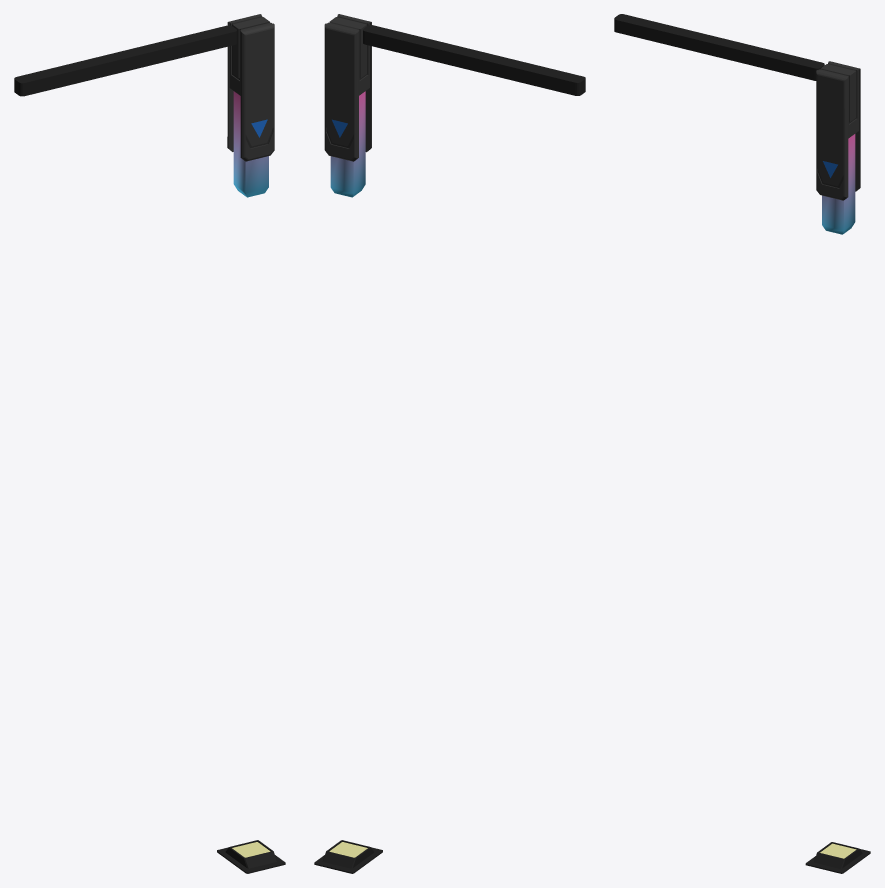
Rendered from W_O_Streetlamp_004_b_L0.fbx.
3 views of the same model, side by side, from view 1: azimuth 30°, elevation 25°; view 2: azimuth 150°, elevation 25°; view 3: azimuth 330°, elevation 25° (orthographic). The views are drawn at different scales.
Visible parts, largest first — view 1: W_O_Streetlamp_004_b_L0; view 2: W_O_Streetlamp_004_b_L0; view 3: W_O_Streetlamp_004_b_L0.
Part boxes in pixels (<box>): W_O_Streetlamp_004_b_L0: <box>14,14,285,873</box>; W_O_Streetlamp_004_b_L0: <box>314,14,585,873</box>; W_O_Streetlamp_004_b_L0: <box>614,14,870,873</box>.
Bounding box in the file's own units: 1.48 × 4.63 × 0.31.
